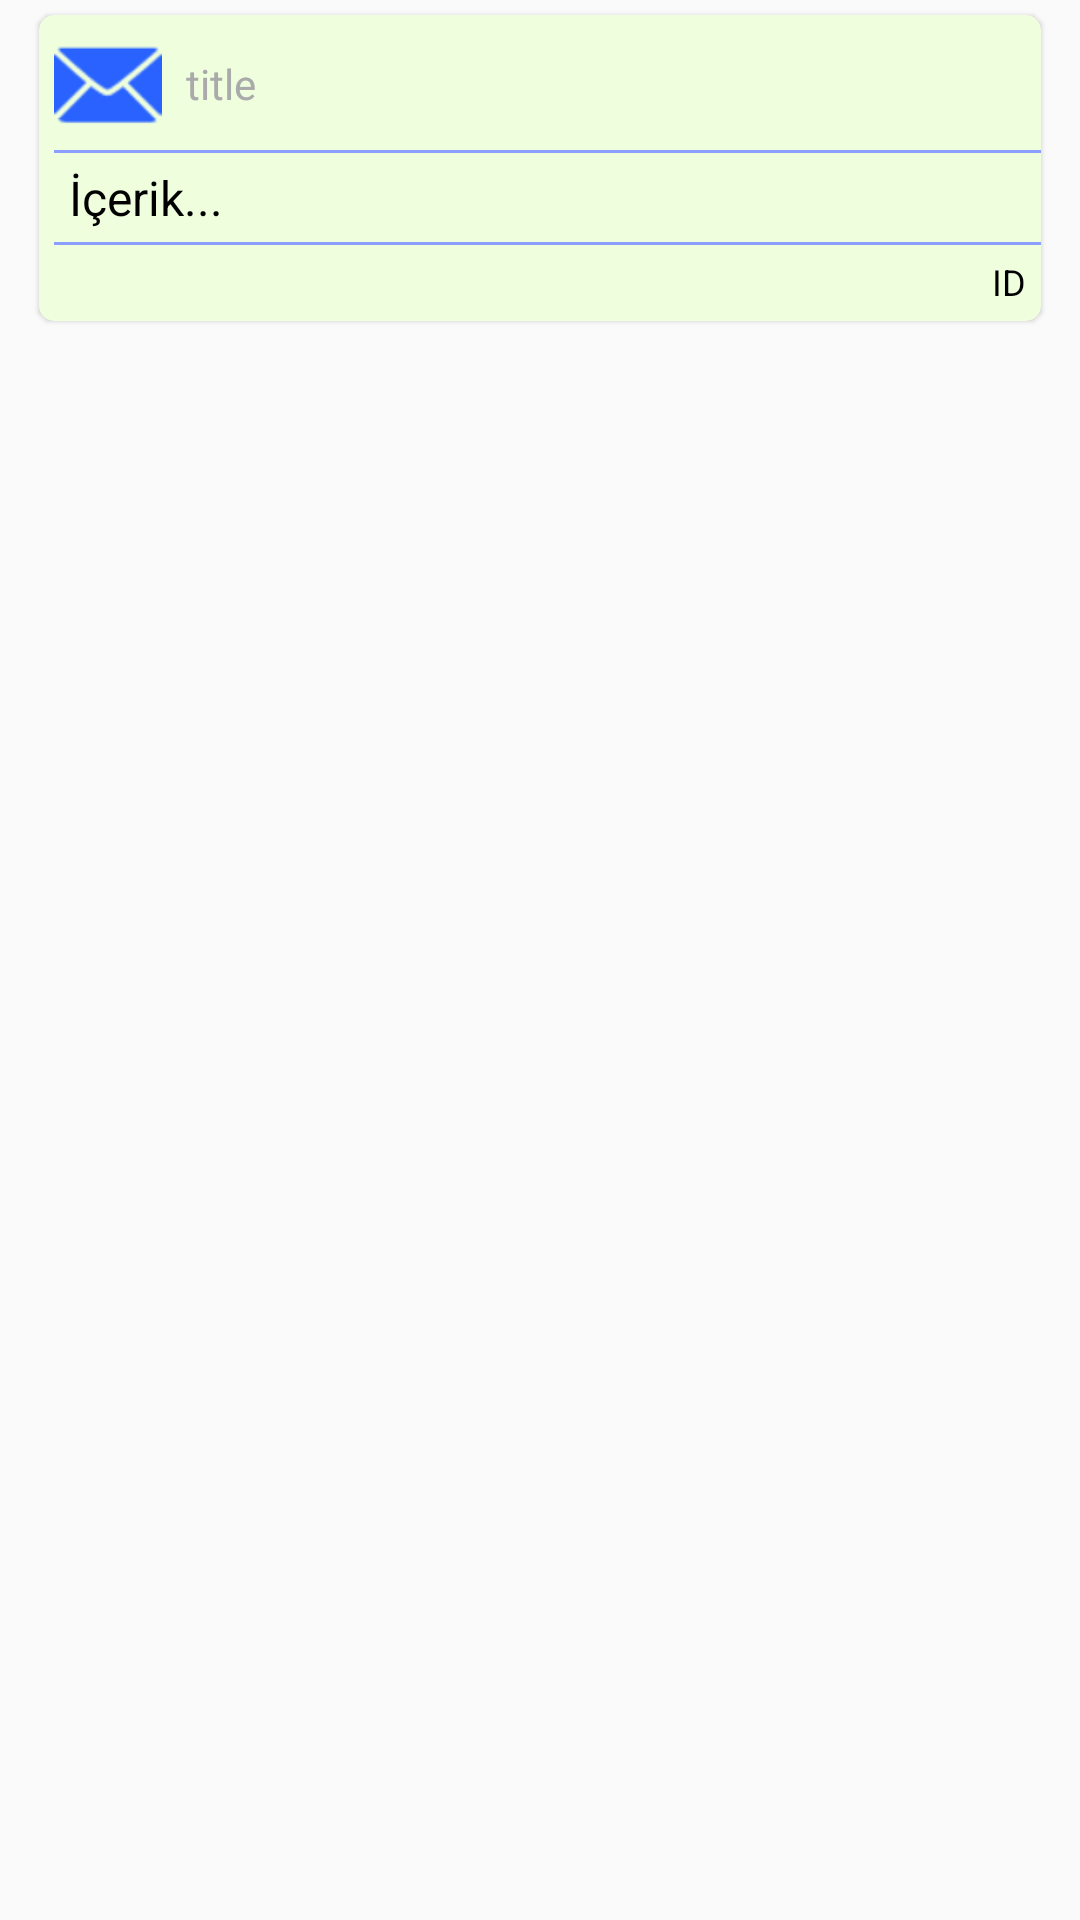

Point at icon controls on the screen. Image size 1080x1920, points as point (x, y).
email: point (108, 85)
